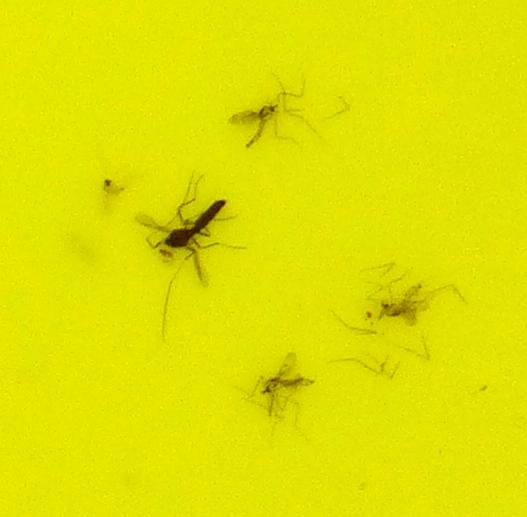Nematocera: (140, 196, 228, 282), (257, 362, 314, 417), (229, 100, 280, 149), (375, 282, 427, 326), (100, 176, 125, 197)
